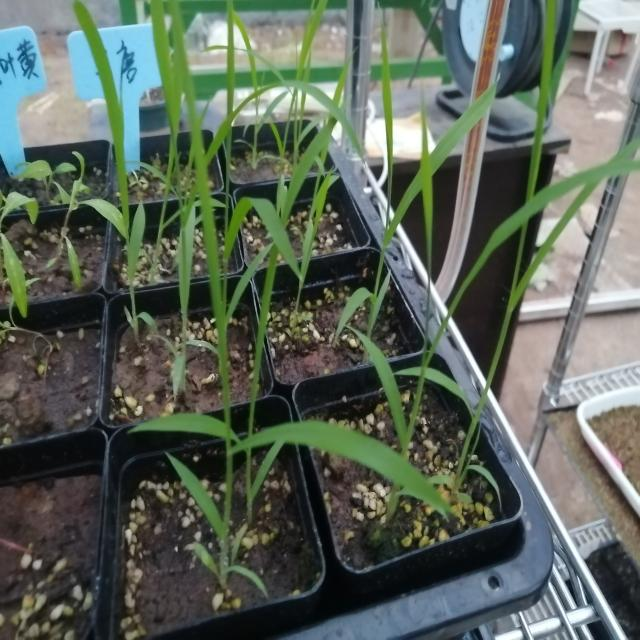crabgrass: (134, 43, 360, 527), (370, 64, 615, 494)
